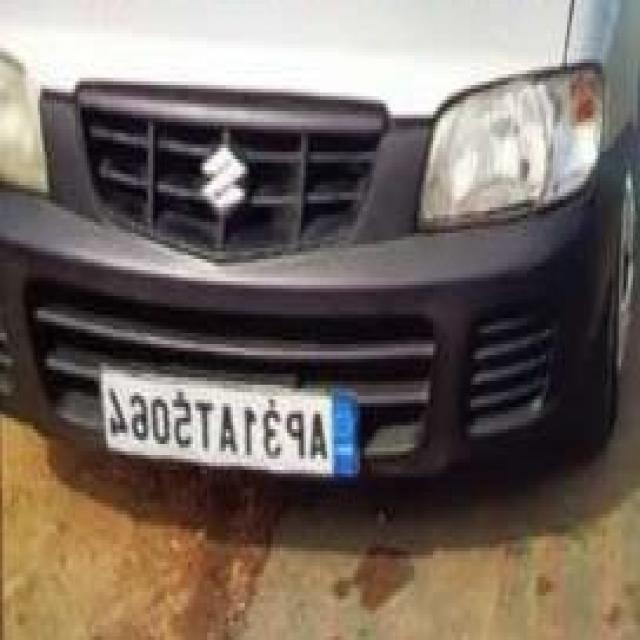license_plate: (100, 366, 362, 480)
